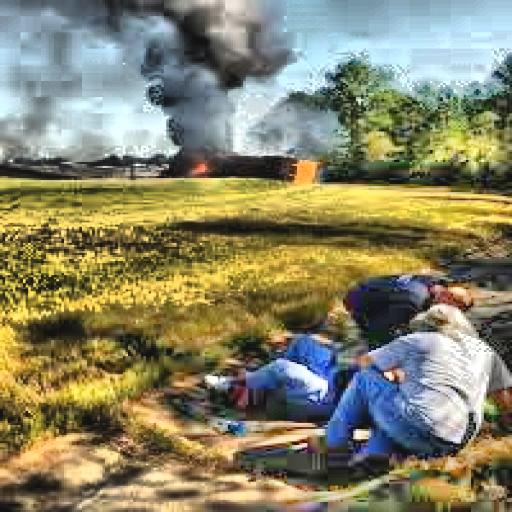fire: (159, 132, 228, 184)
